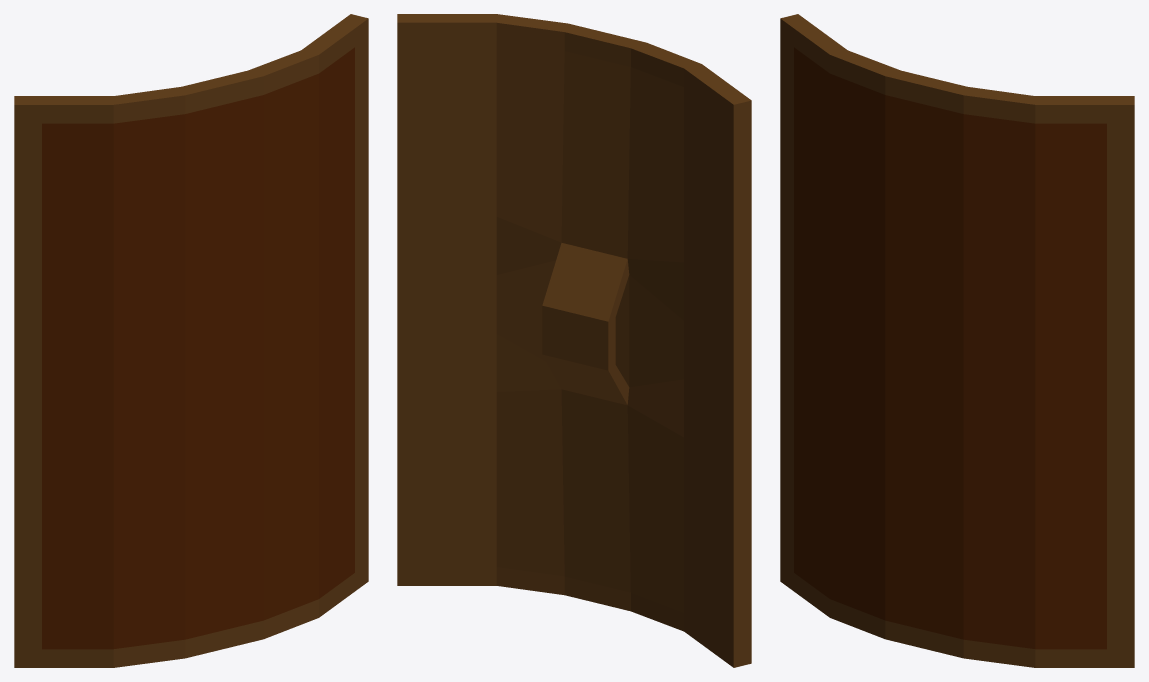
File: BronzeSquareShield.glb
The picture shows the model from 3 angles, left to right: view 1: azimuth 30°, elevation 25°; view 2: azimuth 150°, elevation 25°; view 3: azimuth 330°, elevation 25°; orthographic projection.
Parts seen in each view (by area): view 1: SqShield; view 2: SqShield; view 3: SqShield.
Part boxes in pixels (<box>): SqShield: <box>14,14,368,667</box>; SqShield: <box>397,14,751,667</box>; SqShield: <box>780,14,1134,667</box>.
Bounding box in the file's own units: 0.3953 × 0.6 × 0.0811.
